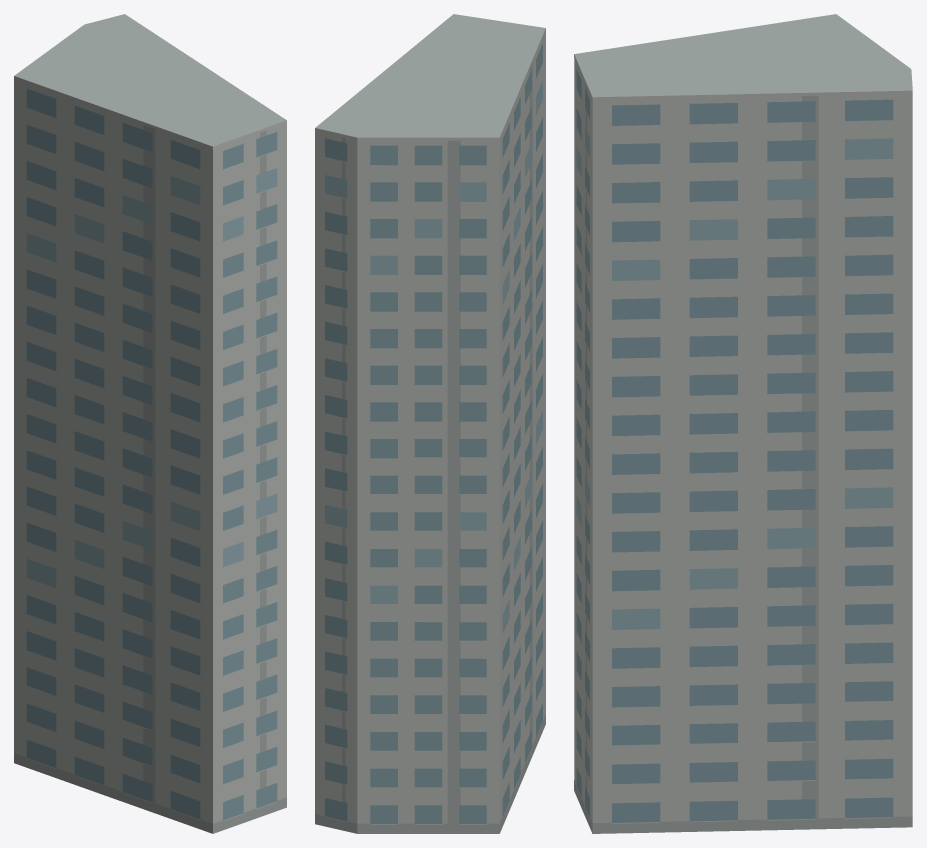
The model's file is residential-7fe48a2e-f275-4c7d-b742-38a37d4eaaf8.glb.
The picture shows the model from 3 angles, left to right: view 1: azimuth 30°, elevation 25°; view 2: azimuth 150°, elevation 25°; view 3: azimuth 270°, elevation 25°; orthographic projection. The views are drawn at different scales.
Visible parts, largest first — view 1: residential-7fe48a2e-f275-4c7d-b742-38a37d4eaaf8.tmp; view 2: residential-7fe48a2e-f275-4c7d-b742-38a37d4eaaf8.tmp; view 3: residential-7fe48a2e-f275-4c7d-b742-38a37d4eaaf8.tmp.
Boxes of the visible parts, bbox=[...] form: residential-7fe48a2e-f275-4c7d-b742-38a37d4eaaf8.tmp: bbox=[14, 14, 286, 833]; residential-7fe48a2e-f275-4c7d-b742-38a37d4eaaf8.tmp: bbox=[315, 14, 545, 833]; residential-7fe48a2e-f275-4c7d-b742-38a37d4eaaf8.tmp: bbox=[574, 14, 912, 833].
Size of the model in its own units: 14.31 by 59 by 24.59.
